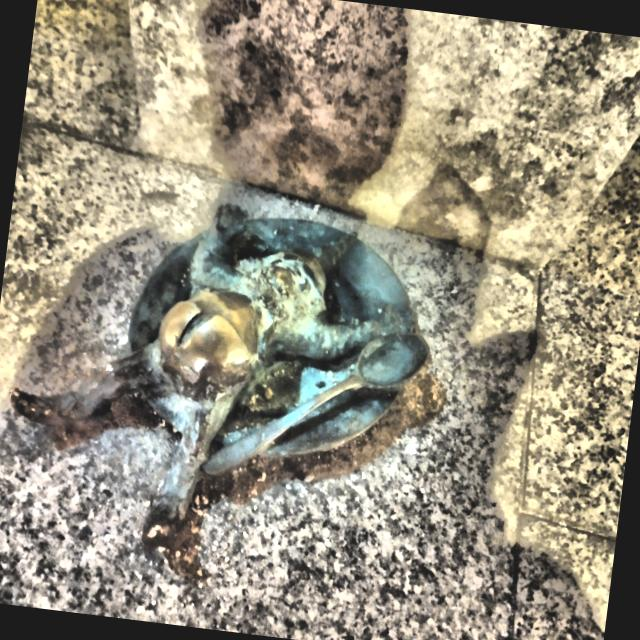Obiezysmak: (9, 205, 428, 551)
